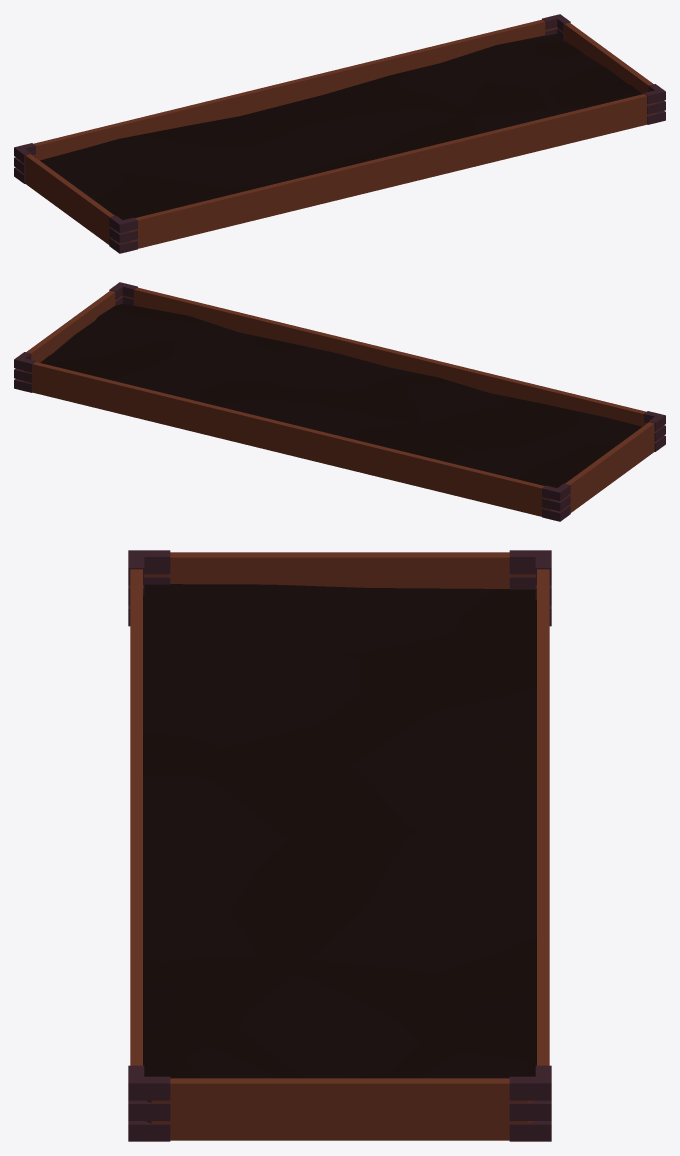
Rendered from mod_planter_b.glb.
3 renders of one model, top to bottom at view 1: azimuth 30°, elevation 25°; view 2: azimuth 150°, elevation 25°; view 3: azimuth 270°, elevation 25°, orthographic. The views are drawn at different scales.
Parts seen in each view (by area): view 1: planter_soil, planter_wood; view 2: planter_soil, planter_wood; view 3: planter_soil, planter_wood.
Part boxes in pixels (box(x1,y1,x2,y2)): planter_soil: box(40, 33, 642, 219); planter_wood: box(14, 14, 665, 253); planter_soil: box(40, 304, 642, 487); planter_wood: box(14, 282, 665, 521); planter_soil: box(143, 584, 536, 1078); planter_wood: box(128, 550, 551, 1141).
Bounding box in the file's own units: 3.01 × 0.153 × 1.01.
